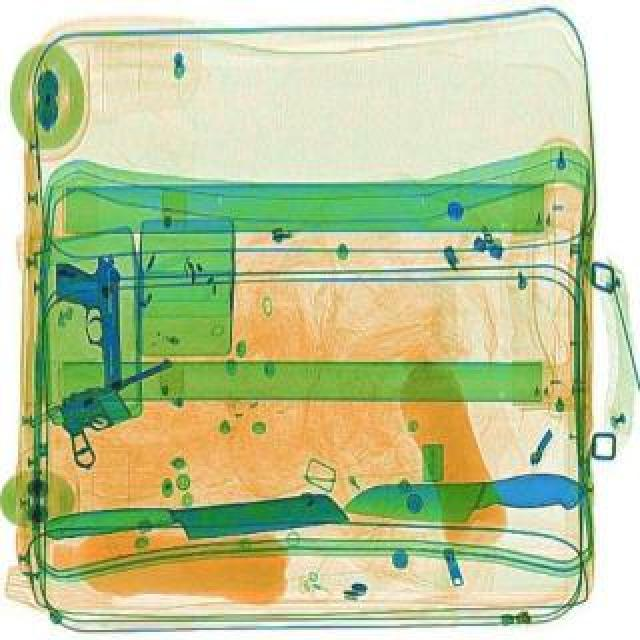gun: (30, 356, 198, 472), (52, 252, 128, 390)
knife: (42, 488, 346, 544), (340, 468, 592, 530)
